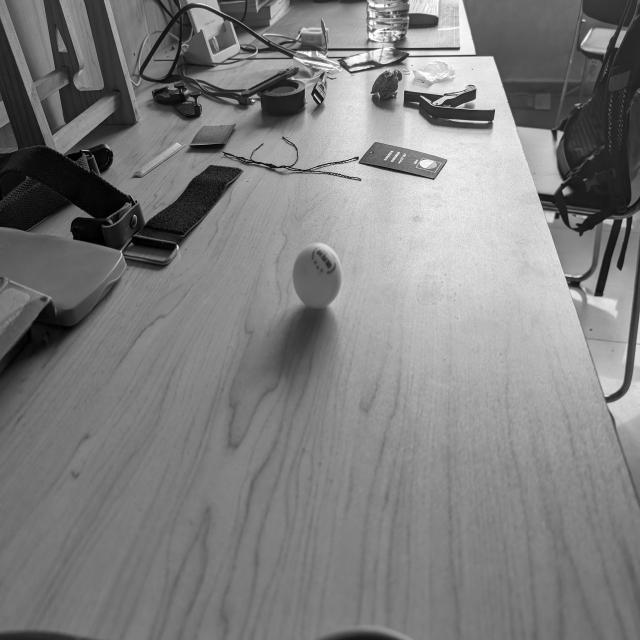ping-pong-ball: (294, 242, 339, 311)
